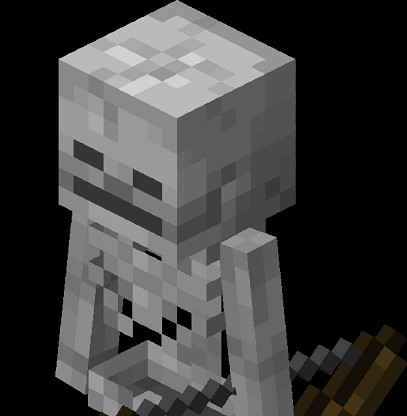skeleton: (46, 3, 298, 321)
